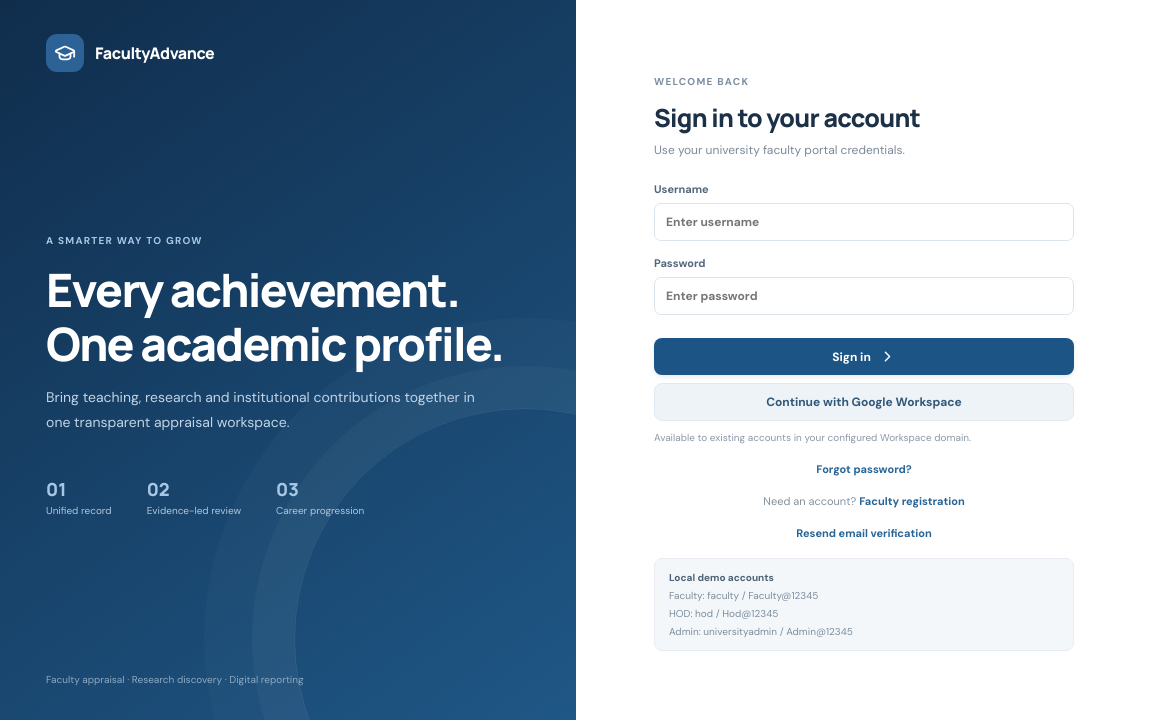
Test case: sign-in experience › displays the authentication error returned by the API
Type "faculty.member" into the field labelled "Username" at (864, 222), box [654,203,1074,241]
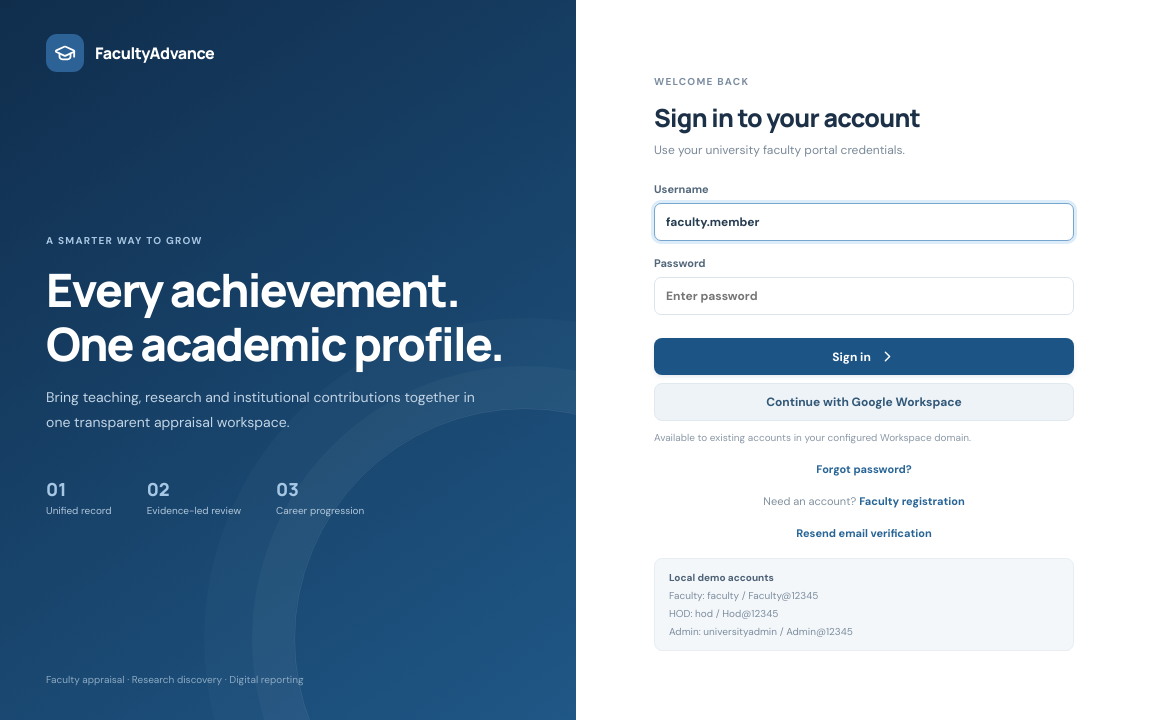
Type "not-a-real-password" into the password field labelled "Password" at (864, 296), box [654,277,1074,315]
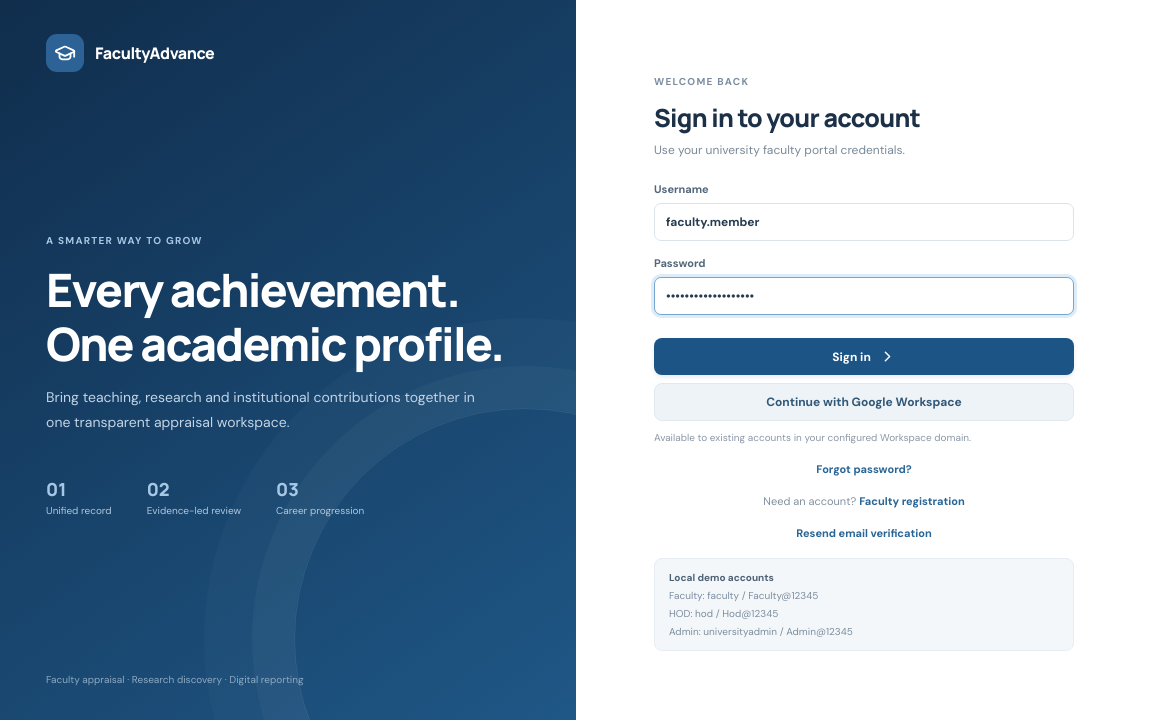
Click the button "Sign in" at (864, 357), box [654,338,1074,375]
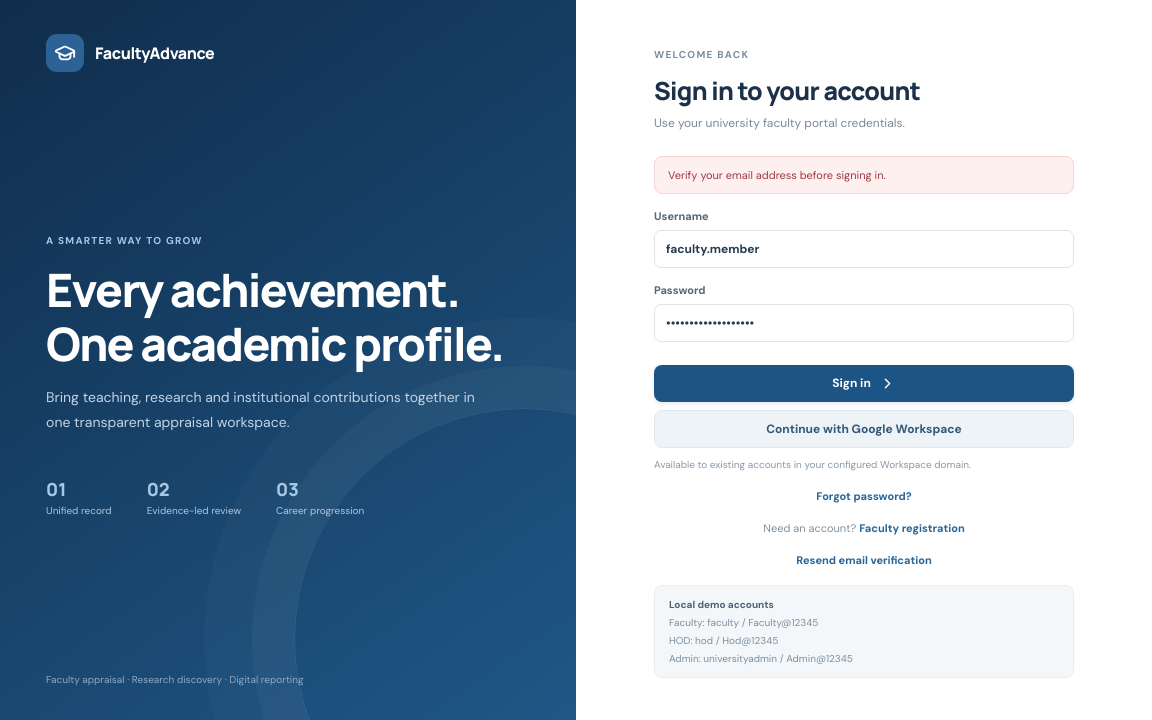
Expected: the message reads "Verify your email address before signing in.", [668,168,886,182]
